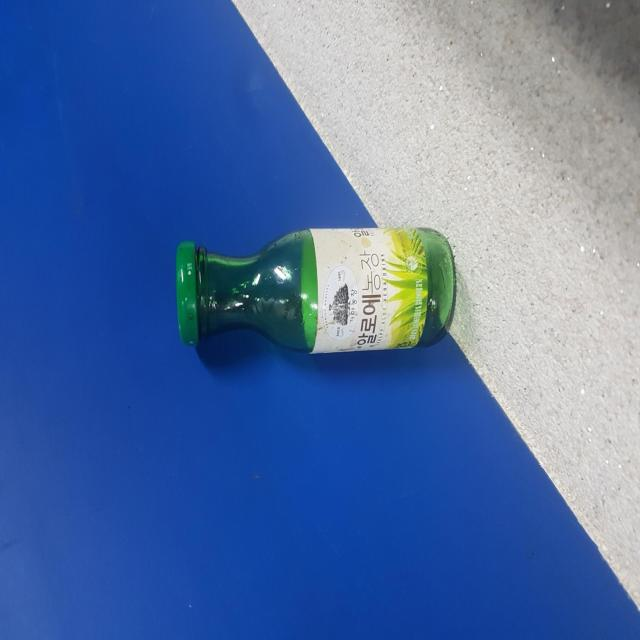glass: (176, 228, 455, 353)
